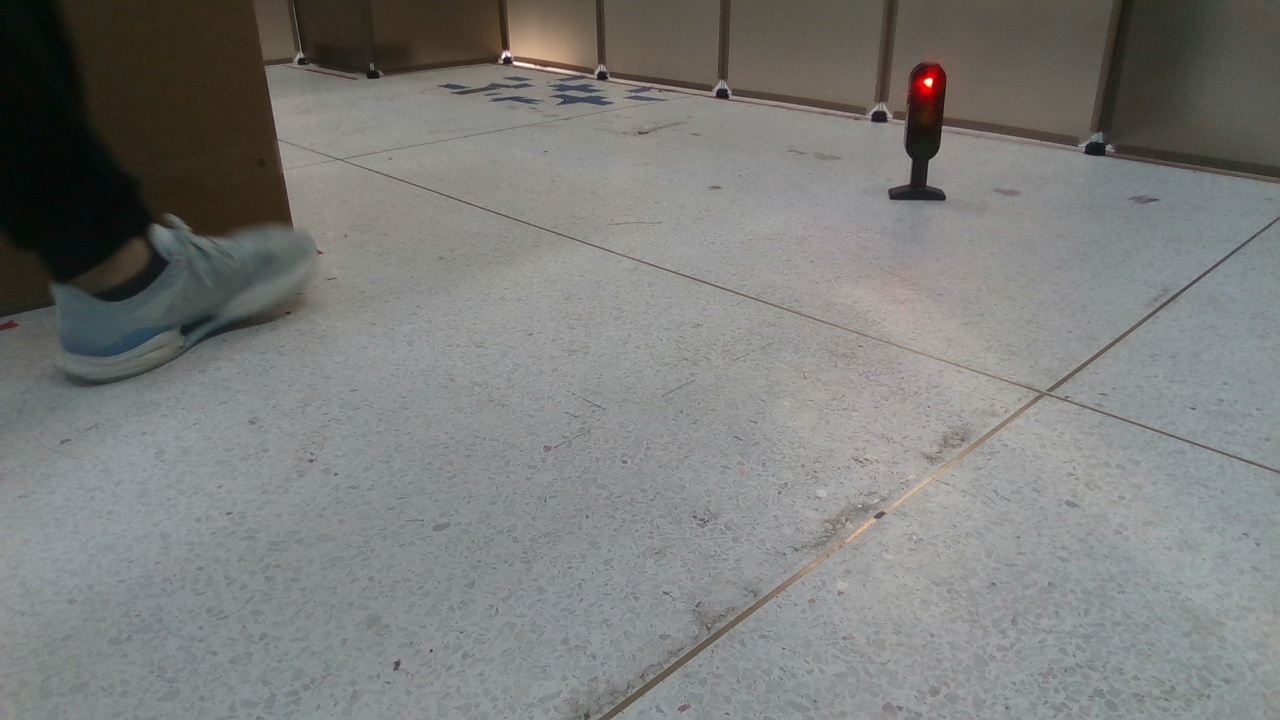Red traffic light: (888, 60, 949, 207)
